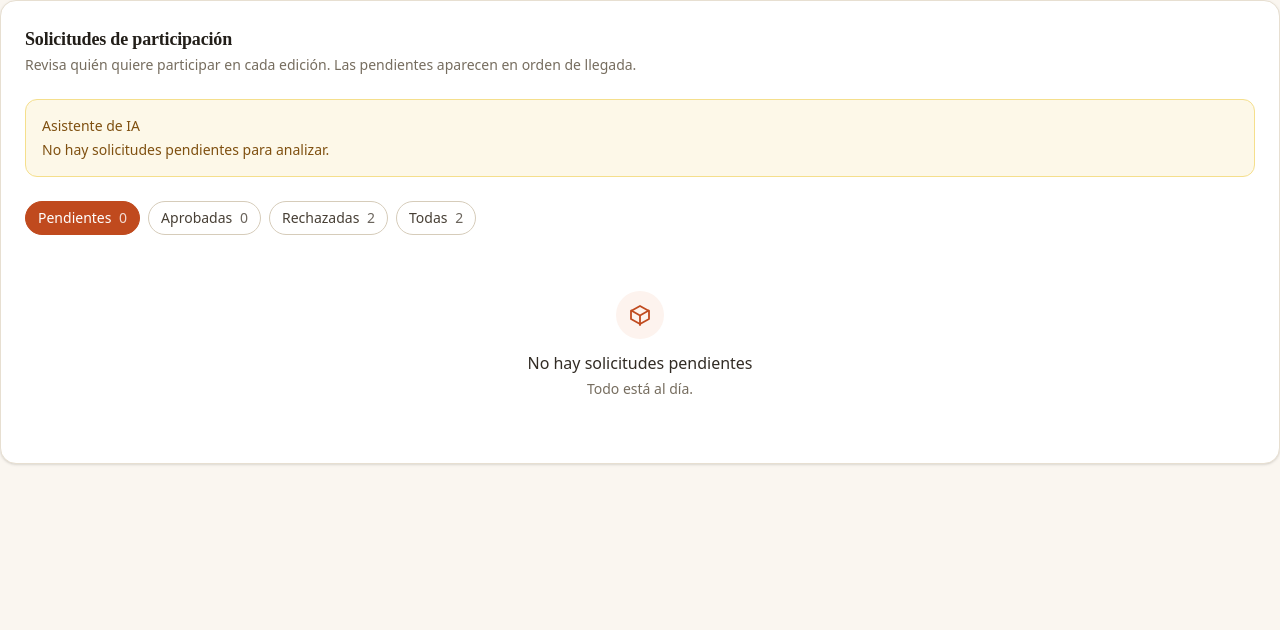
GestionSolicitudes: lista y filtros › las rechazadas se ordenan de la más reciente a la más antigua
The width and height of the screenshot is (1280, 630).
Click the button "Rechazadas 2". click: point(328, 218)
box: x1=269 y1=201 x2=388 y2=235
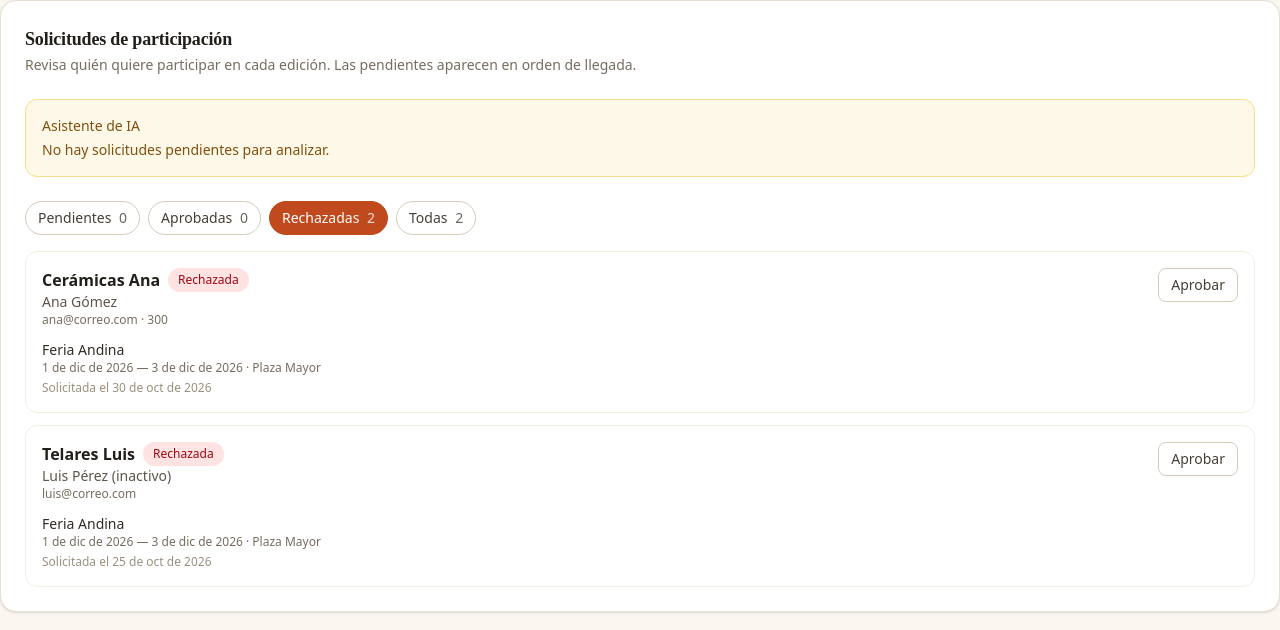
Result: the headings read "Cerámicas Ana", "Telares Luis", in this order at x1=42 y1=268 x2=160 y2=292; x1=42 y1=442 x2=135 y2=466
